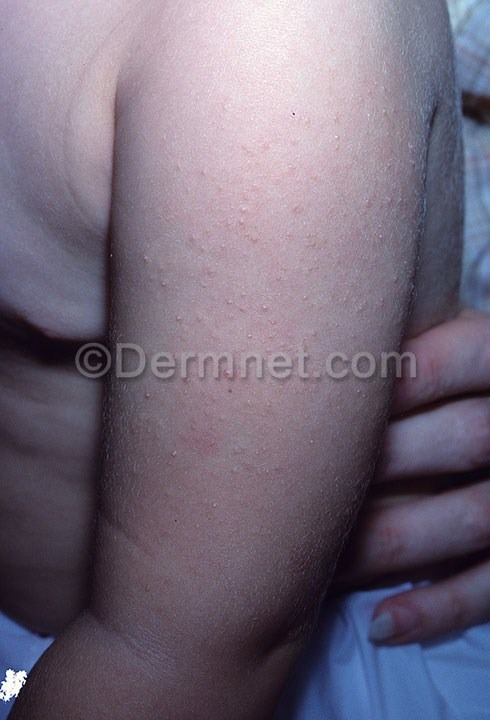Eczema: (96, 82, 391, 657)
